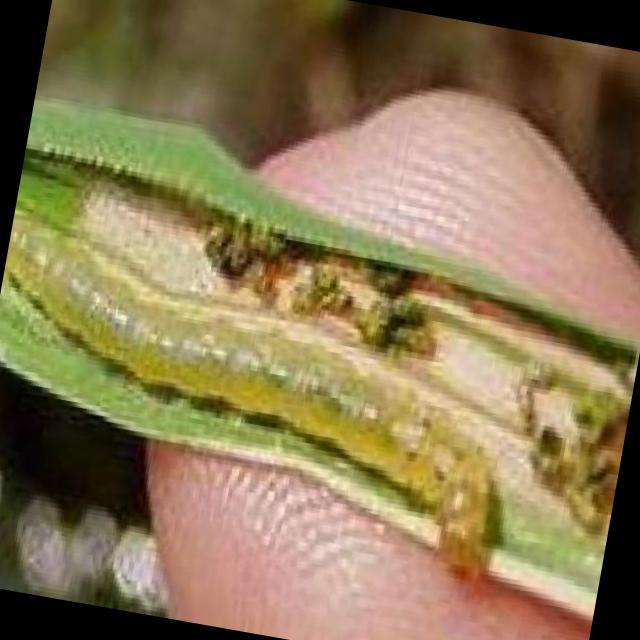leaf-folder: (0, 216, 607, 598)
